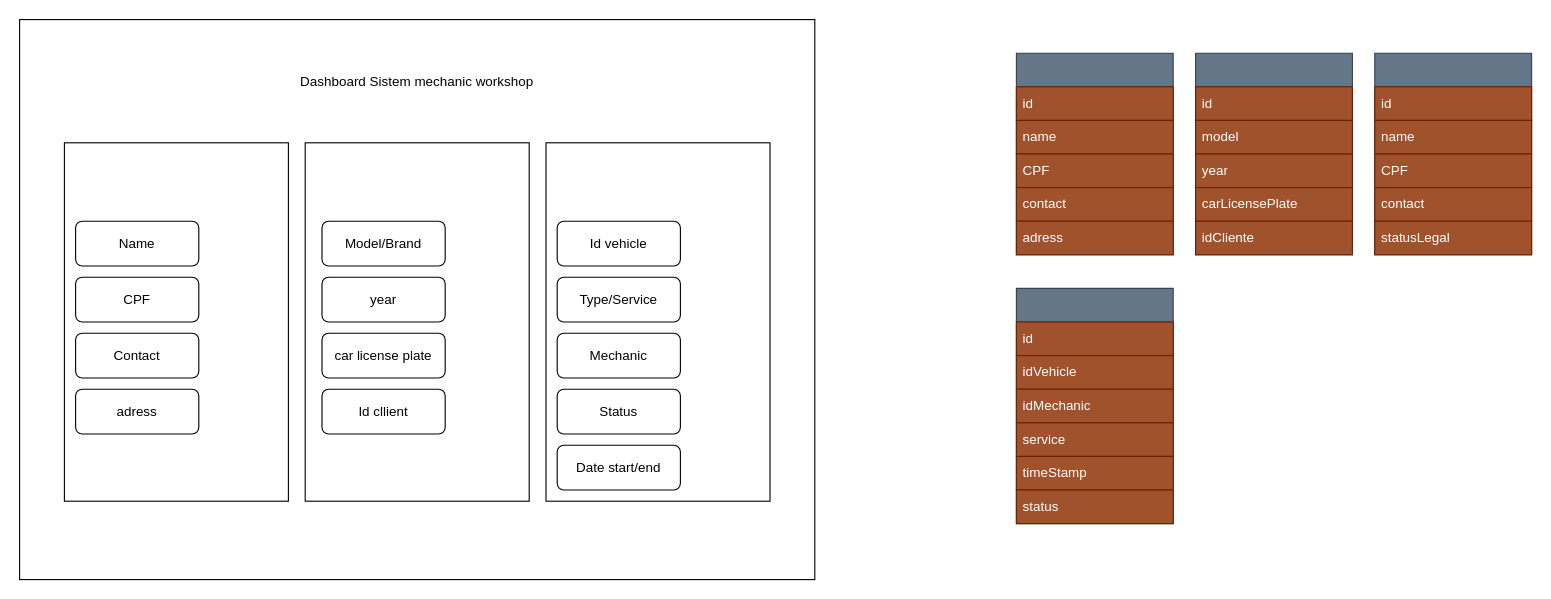
The diagram is 1551 pixels wide and 599 high, and some of its shapes have lost their labels. Here are the shapes that lost their labels. From the top down, the box of each, then its label:
(1015, 52, 1173, 255): Clients
(1194, 52, 1352, 255): Vehicles
(1374, 52, 1532, 255): Mechanics
(63, 142, 288, 501): Register Client
(304, 142, 529, 501): Register vehicle
(545, 142, 770, 501): Create work order
(1015, 287, 1173, 524): Work Orders
